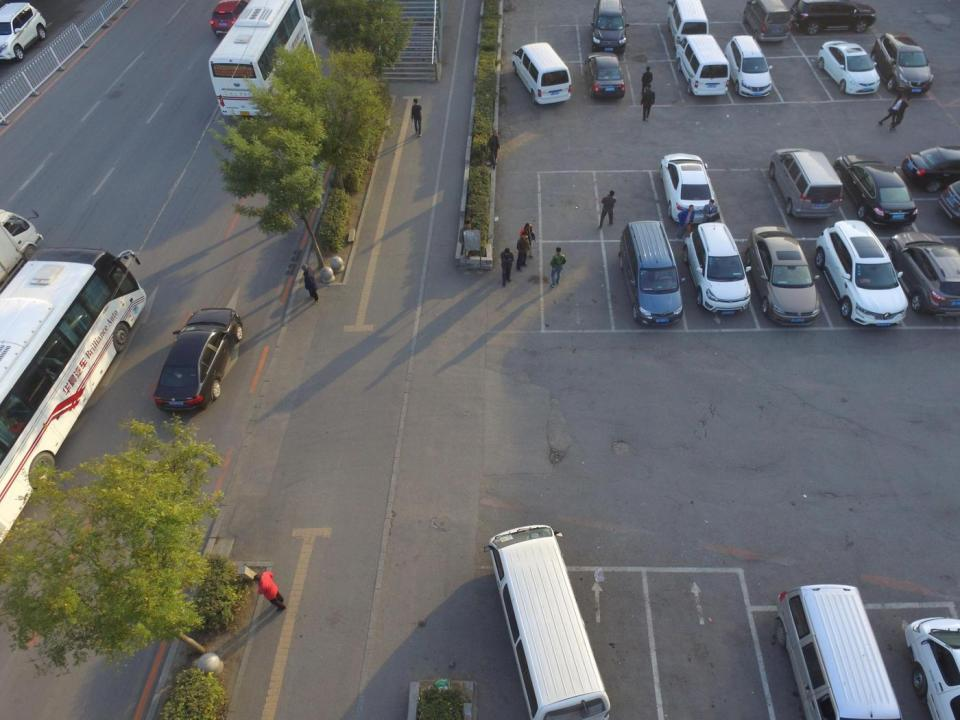bus: (0, 245, 147, 550)
car: (813, 218, 910, 333), (154, 305, 242, 414), (747, 224, 821, 328), (677, 223, 753, 317), (836, 148, 918, 227), (906, 618, 959, 718), (887, 232, 960, 293), (661, 150, 716, 226), (870, 30, 933, 96), (818, 39, 881, 96), (723, 35, 773, 99), (903, 142, 960, 194), (0, 1, 47, 60), (790, 0, 875, 32), (585, 50, 627, 98), (594, 0, 628, 56), (209, 0, 249, 34)
truck: (207, 0, 312, 119), (0, 209, 38, 295)
van: (488, 527, 610, 719), (775, 583, 901, 720), (615, 221, 683, 327), (768, 148, 840, 220), (511, 43, 572, 104), (674, 34, 728, 96), (742, 0, 790, 42), (668, 0, 708, 48)
